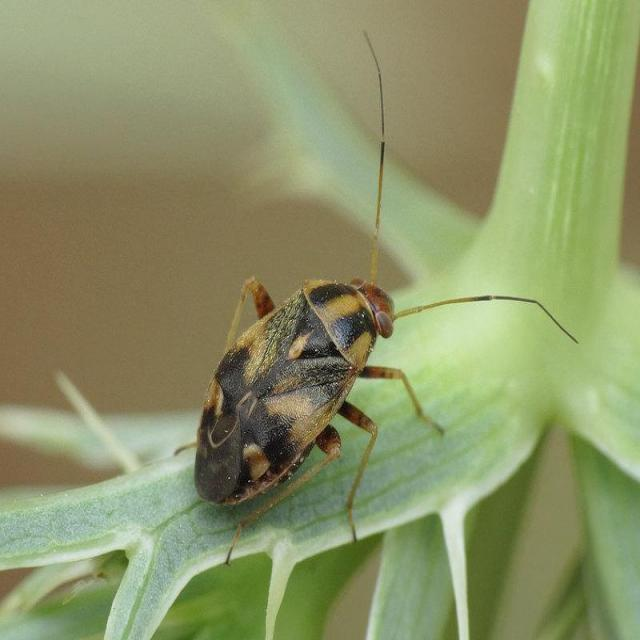Miridae-Adult-: (184, 21, 574, 542)
